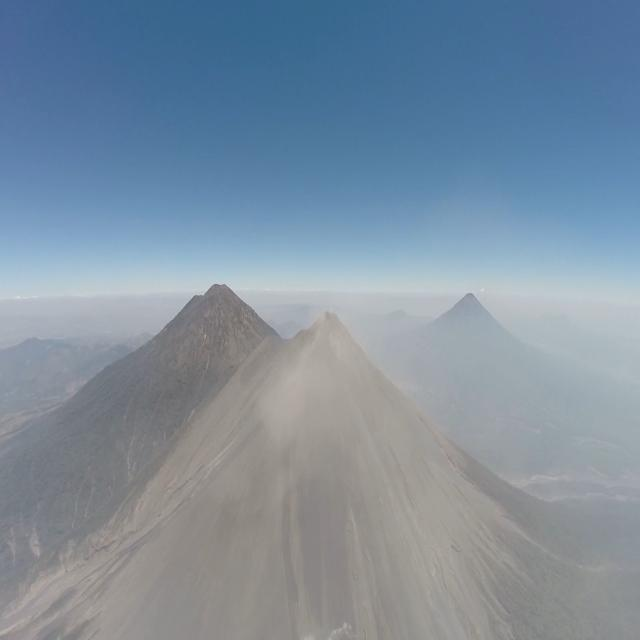Summit: (293, 310, 383, 363)
